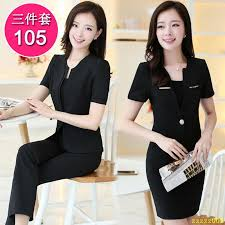F_W_suit jacket: (130, 58, 215, 145), (43, 53, 109, 151)
F_dress pants: (8, 130, 106, 225)
F_tailored skirt: (141, 144, 212, 221)
